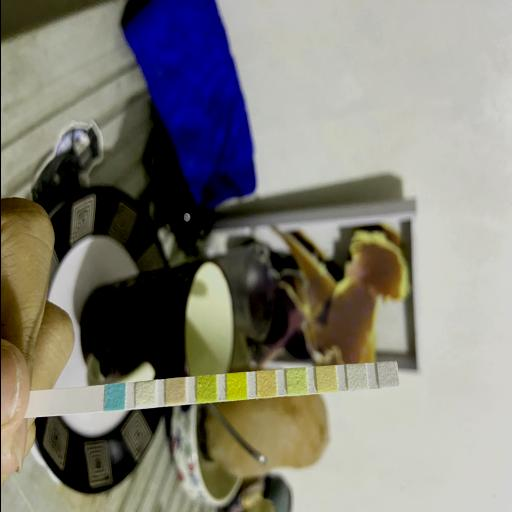Bilirubin: (136, 383, 154, 405)
Blood: (226, 375, 244, 398)
Glucose: (104, 386, 124, 408)
Ketone: (165, 380, 185, 402)
Leukocytes: (378, 364, 396, 386)
Nitrite: (348, 366, 364, 388)
Protein: (287, 370, 305, 394)
SpGravity: (196, 378, 216, 400)
Urobilinogen: (317, 367, 334, 392)
pH: (257, 372, 274, 396)
strip: (30, 362, 397, 418)
